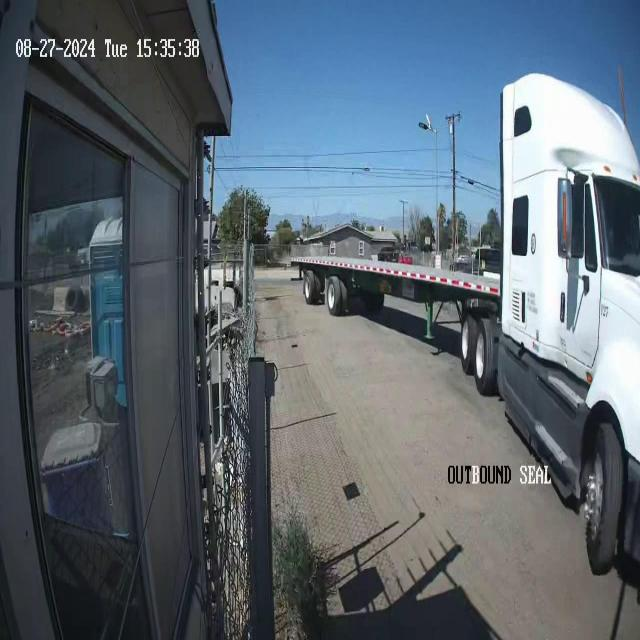TRUCK_IN: (290, 67, 639, 578)
